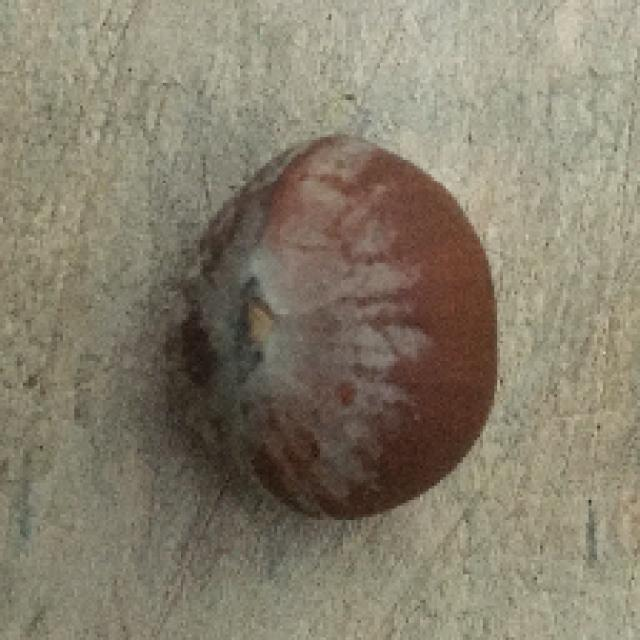damagedHazelnut: (165, 132, 494, 529)
